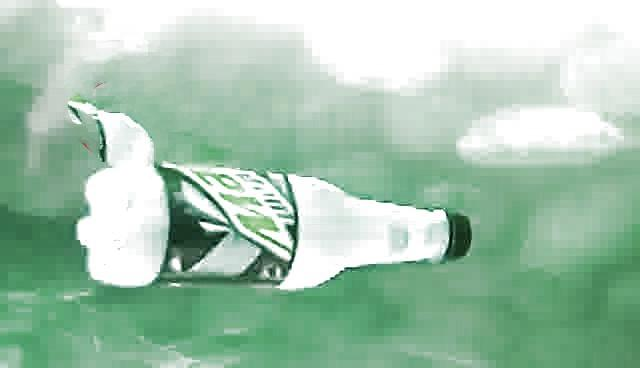Plastic: (75, 165, 481, 300)
